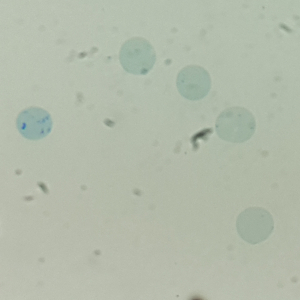aggregate reticulocyte: (15, 105, 54, 142)
erythrocyte: (117, 35, 157, 77)
punctate reticulocyte: (213, 105, 257, 144), (234, 205, 275, 245), (175, 63, 214, 102)
